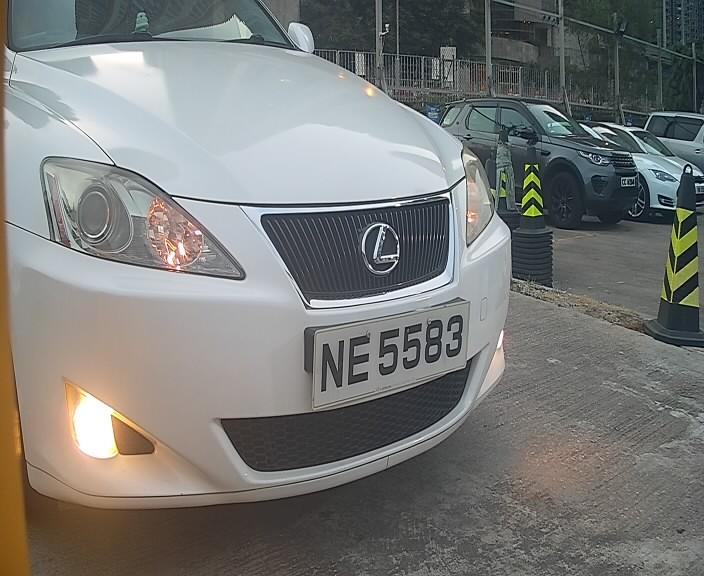License Plate: (295, 289, 486, 417)
